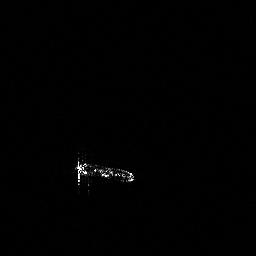ship: (78, 161, 135, 182)
